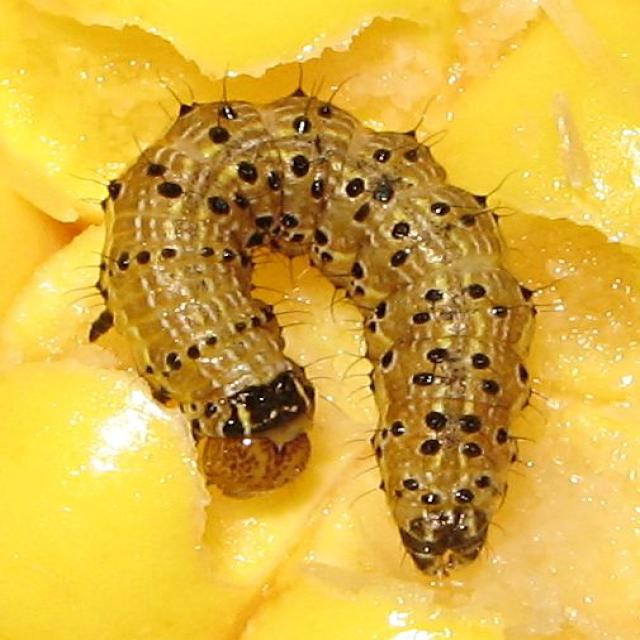Corn-earworm: (103, 94, 516, 564)
